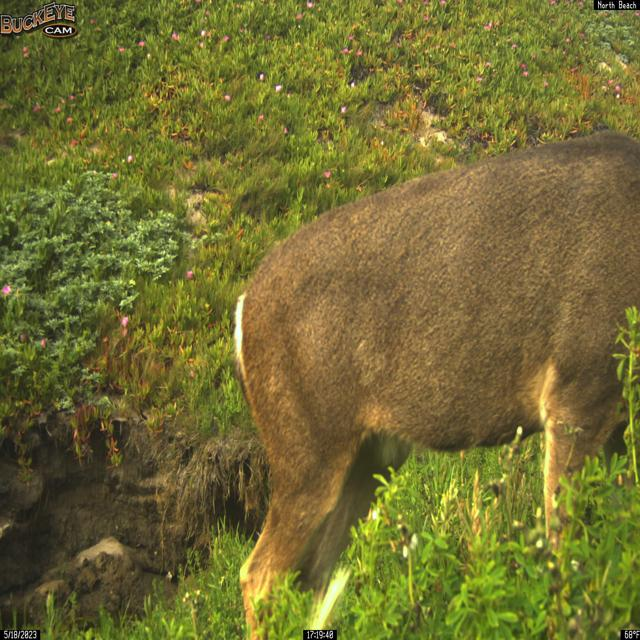deer: (232, 129, 640, 638)
